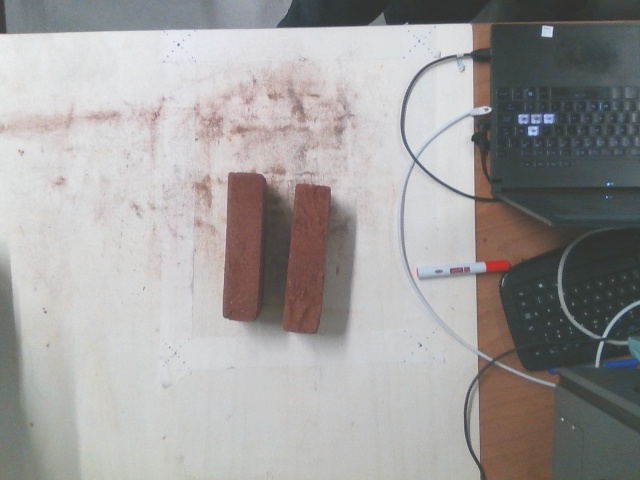brick-side: (284, 185, 329, 336), (223, 174, 262, 317)
